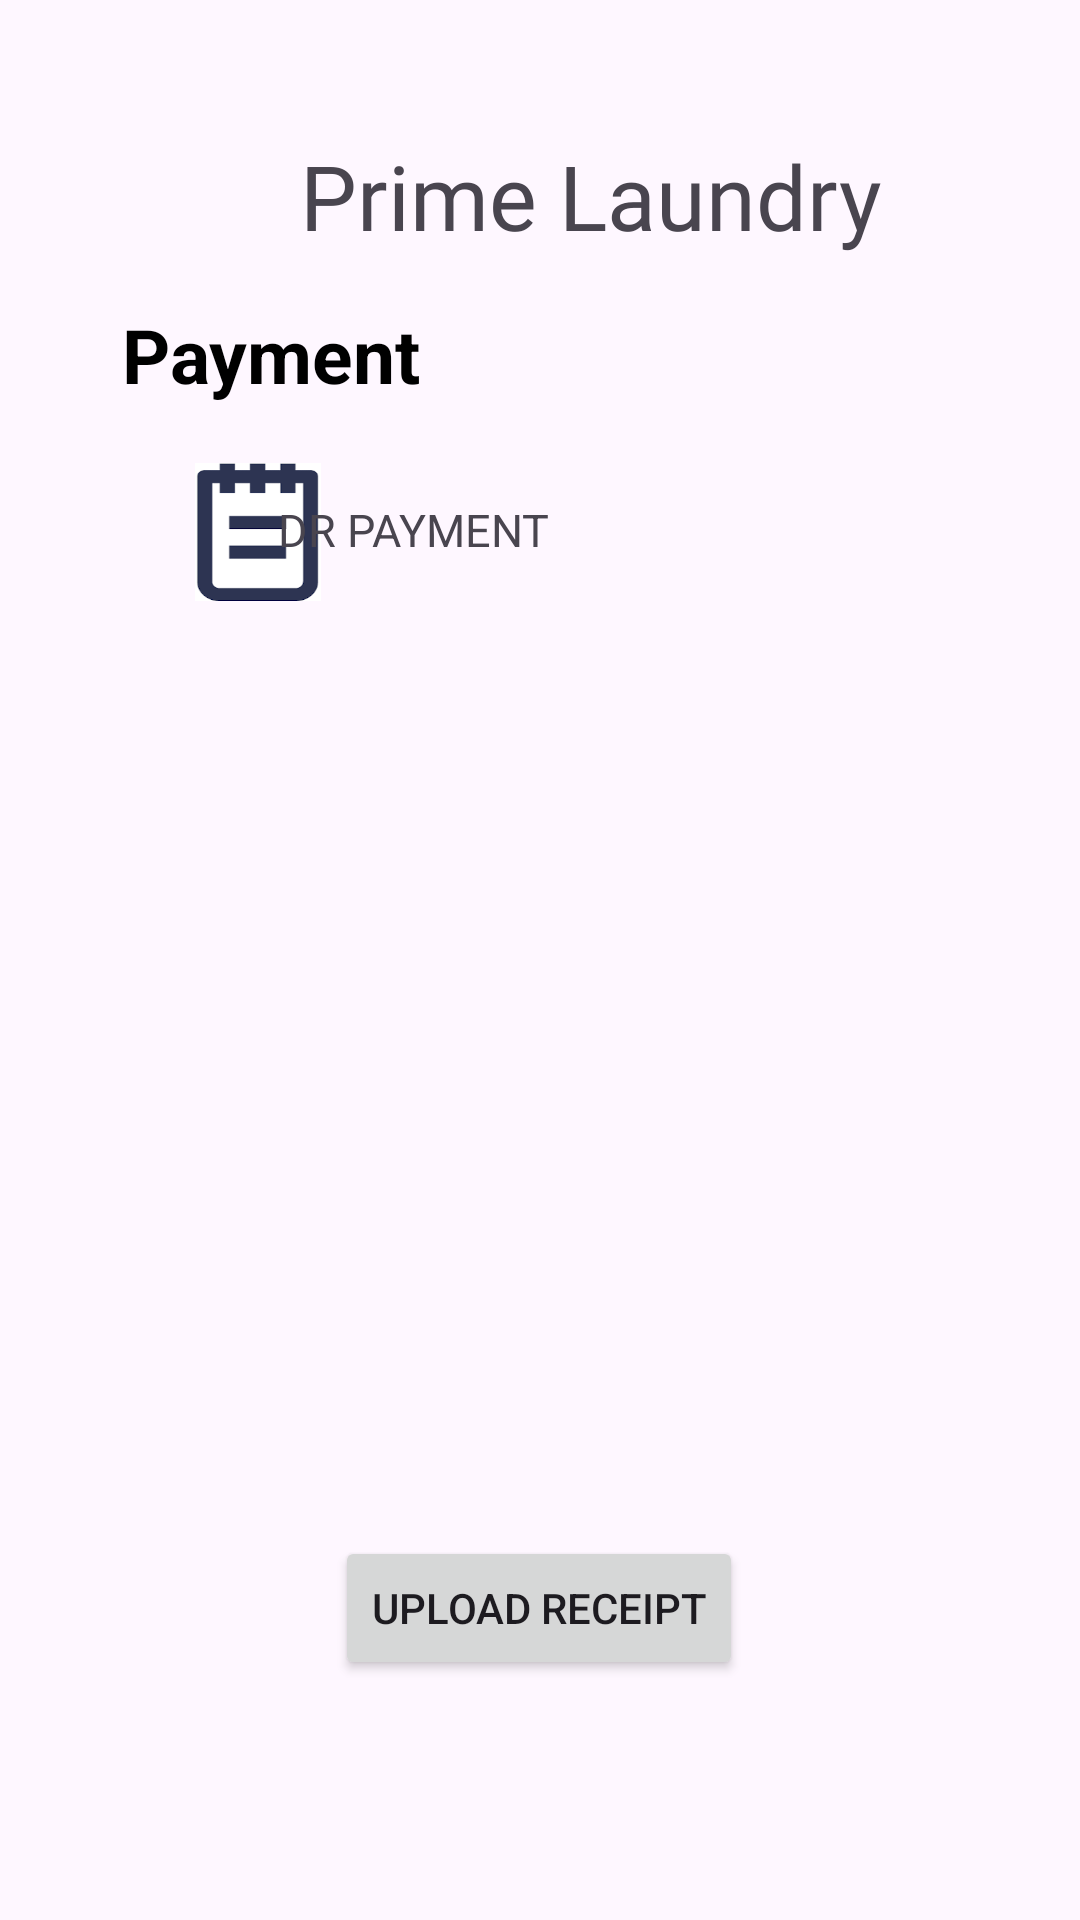

Named icons in this screenshot (1080×1920) and their bounding boxes, [left=x1, top=y1, right=x2, bottom=y2]:
summary: [left=197, top=463, right=321, bottom=601]
